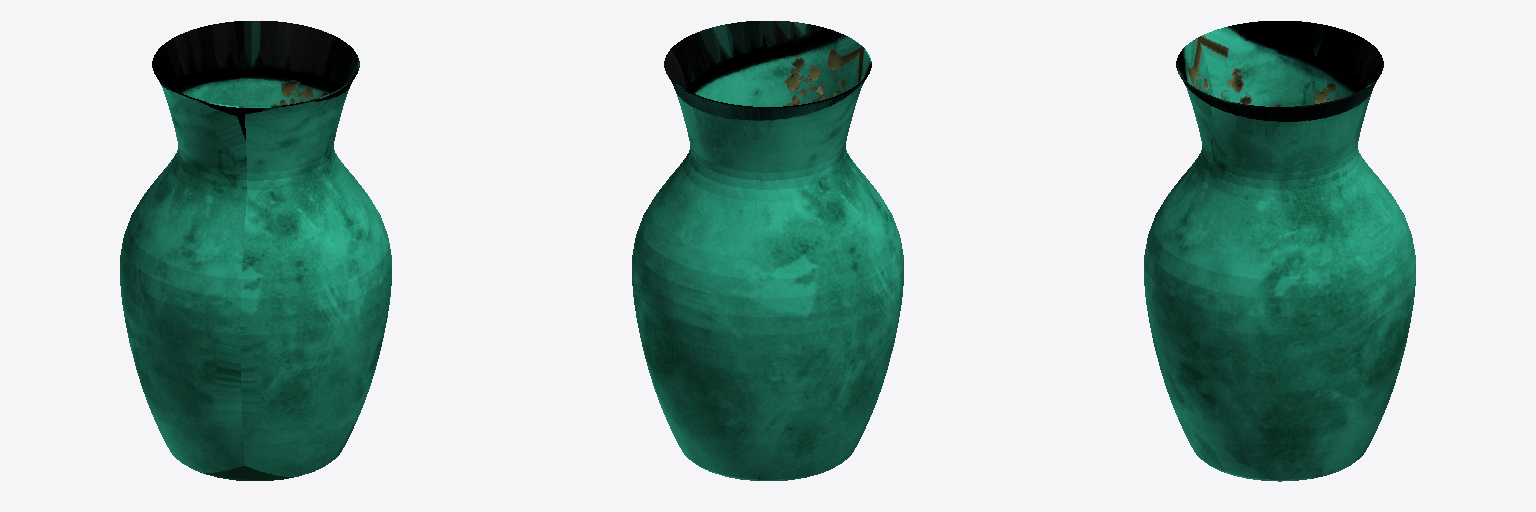
3 renders of one model, left to right at view 1: azimuth 30°, elevation 25°; view 2: azimuth 150°, elevation 25°; view 3: azimuth 270°, elevation 25°, orthographic.
Visible parts, largest first — view 1: Cylinder.023_Cylinder.022; view 2: Cylinder.023_Cylinder.022; view 3: Cylinder.023_Cylinder.022.
Boxes of the visible parts, x1,y1,x2,y2 form: Cylinder.023_Cylinder.022: [120, 21, 391, 480]; Cylinder.023_Cylinder.022: [632, 21, 903, 480]; Cylinder.023_Cylinder.022: [1144, 21, 1415, 481].
Bounding box in the file's own units: 0.2046 × 0.3187 × 0.2046.
Materials: 1 (1 with a texture image).